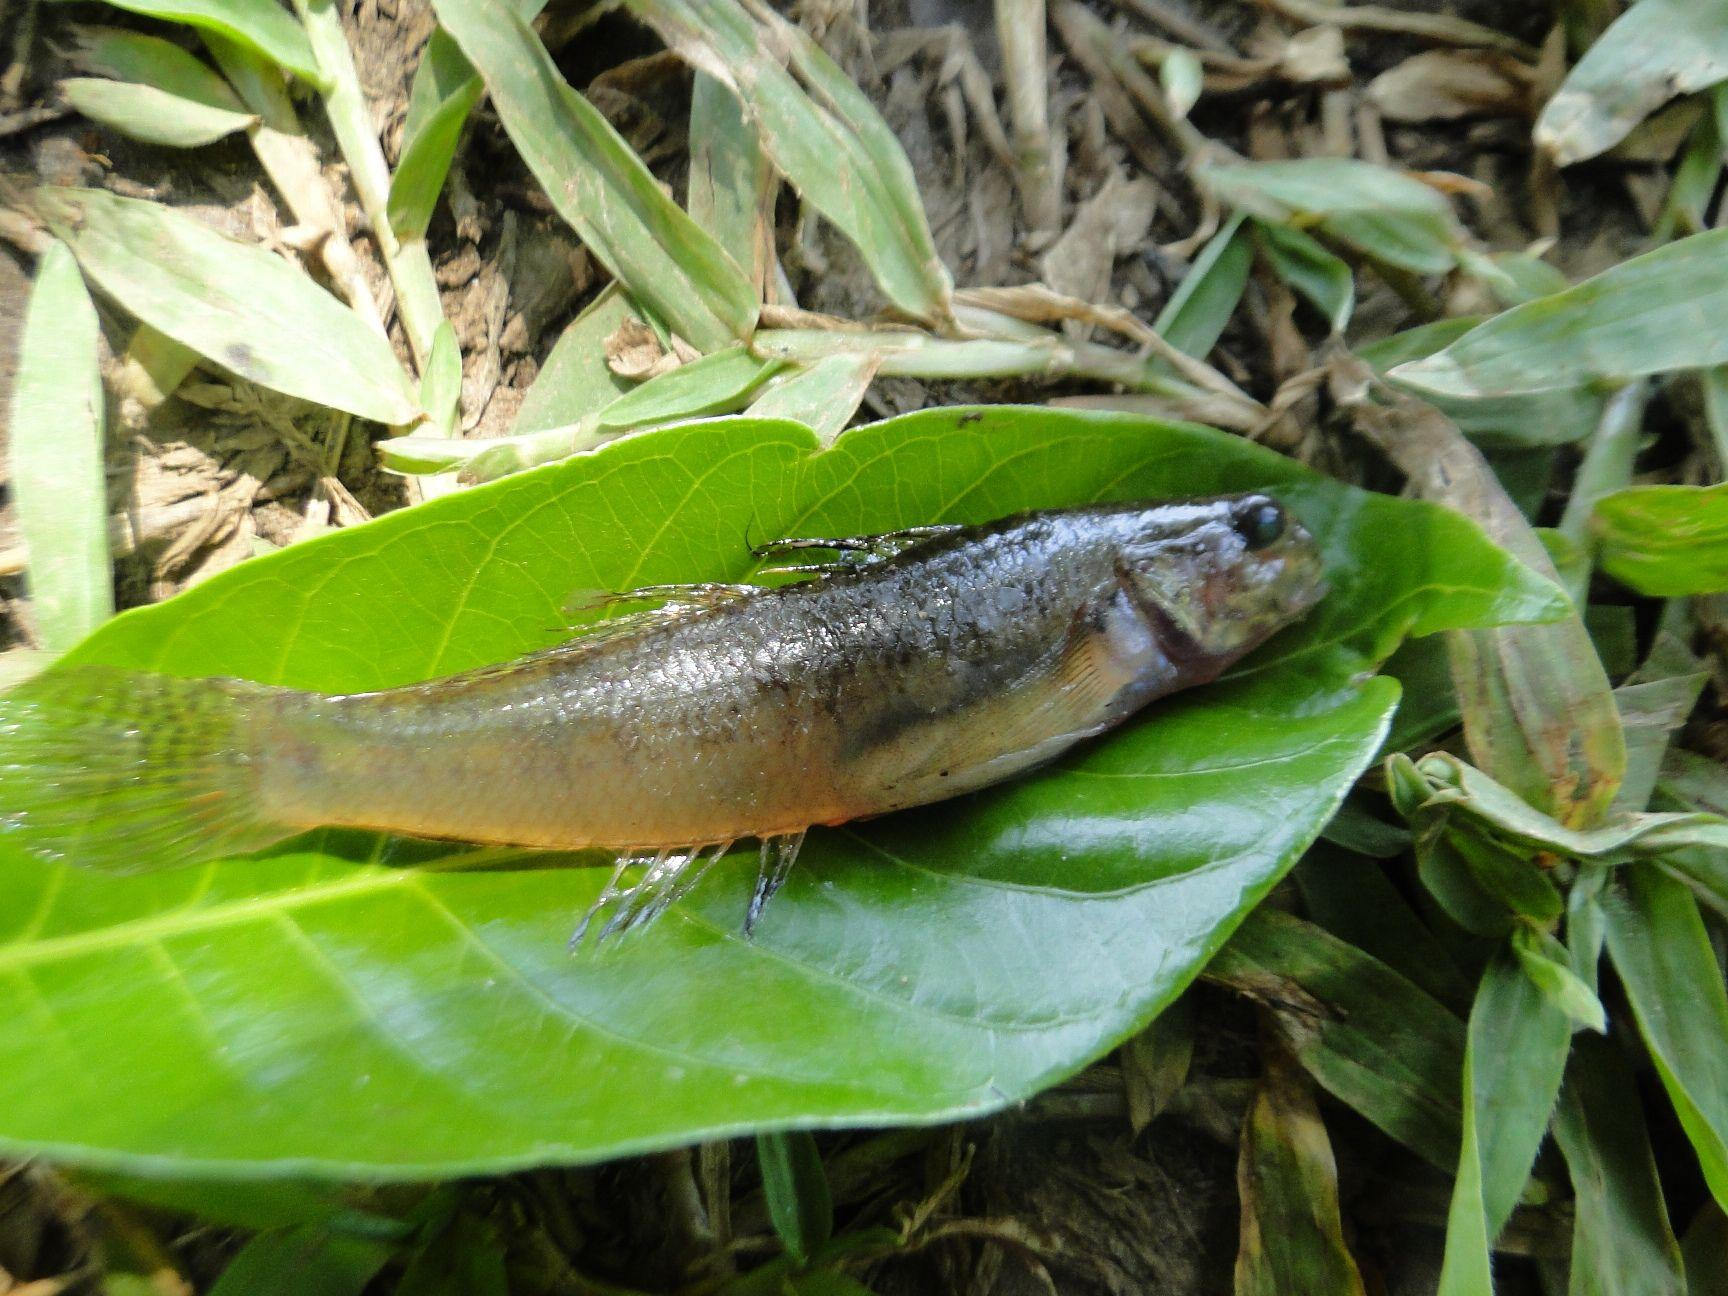Goby: (8, 423, 1331, 920)
